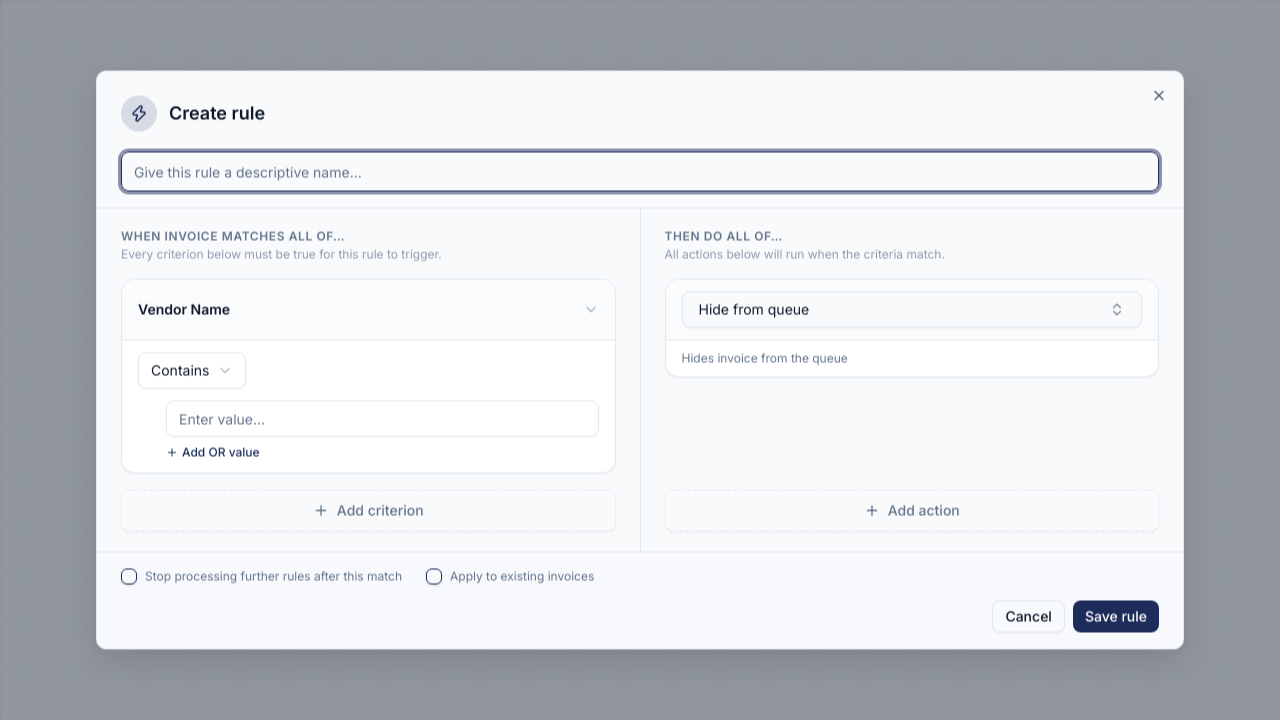
RuleEditor › surfaces an atomic create-and-apply failure without retrying application
Step 1. Type "ACME rule" into the field with placeholder "Give this rule a descriptive name…" → (640,172), box [121,152,1159,192]
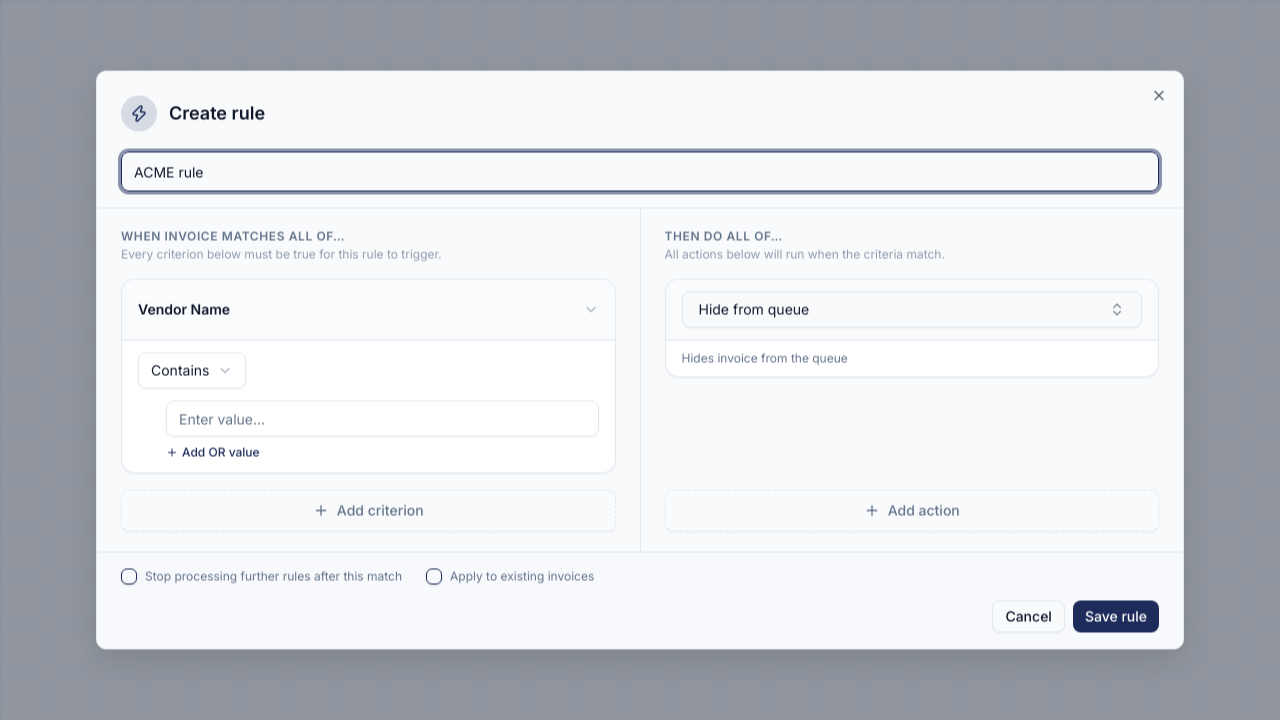
Step 2. Type "ACME" into the field with placeholder "Enter value…" → (382,418), box [166,400,598,436]
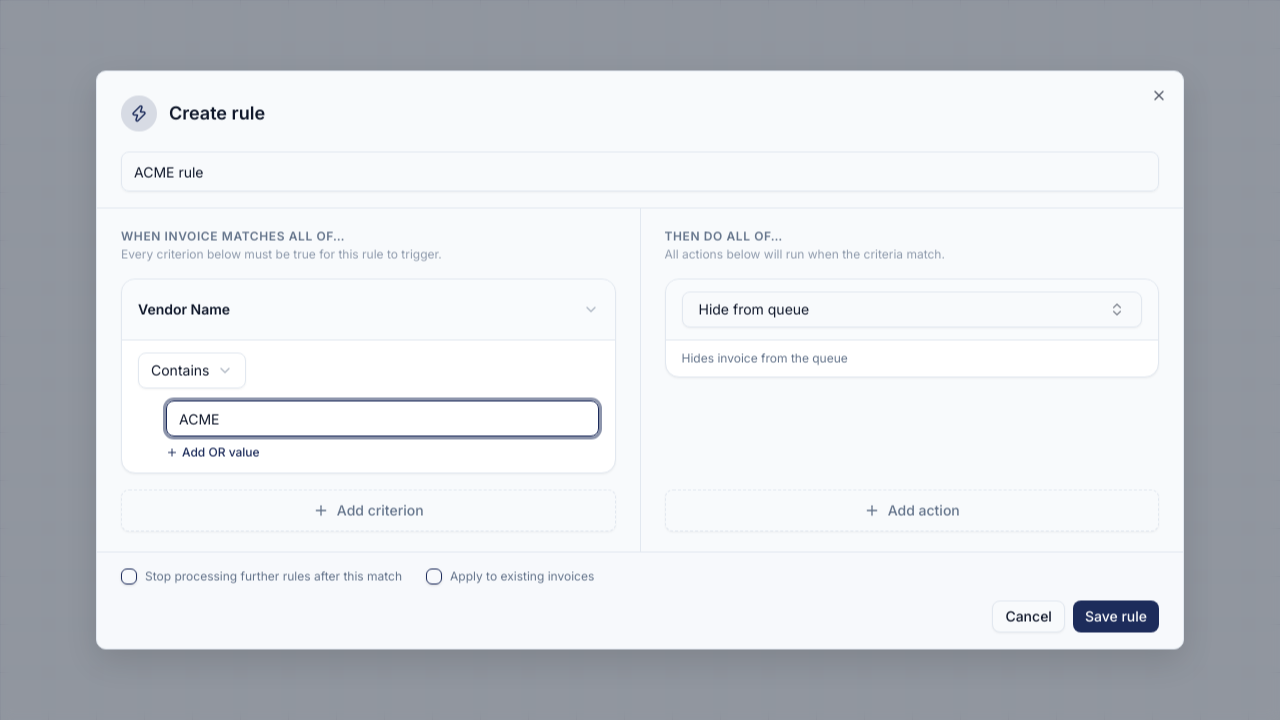
Step 3. Click the checkbox named "Apply to existing invoices" next to "Apply to existing invoices" → (434,576), box [426,568,442,584]
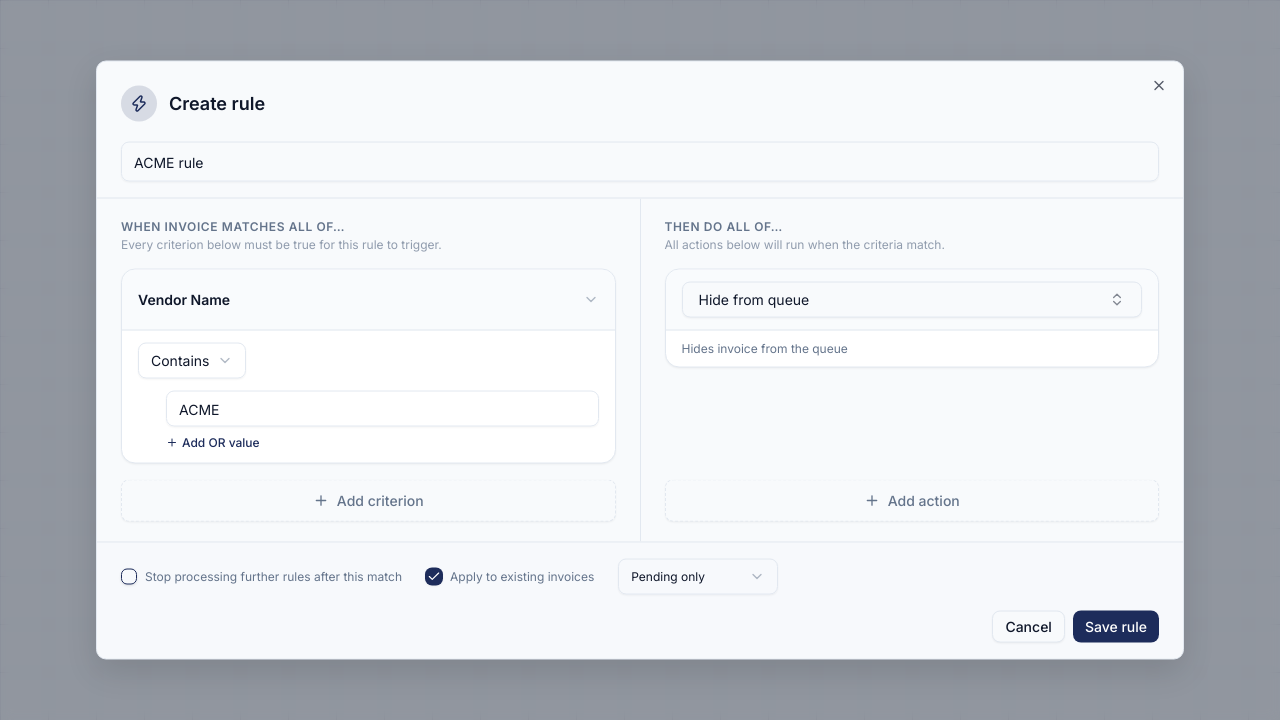
Step 4. Click the button "Save rule" → (1116,626), box [1073,610,1159,642]
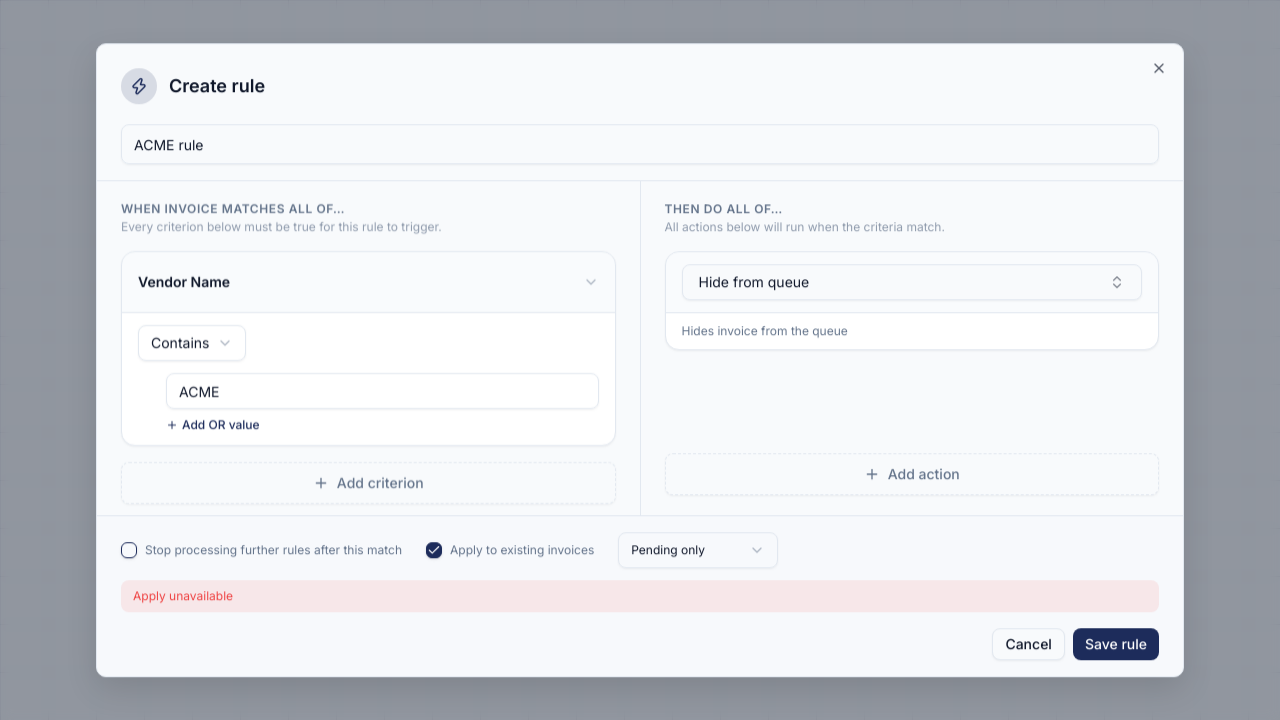
Result: the text "Apply unavailable" is shown at [121,580,1159,612]
